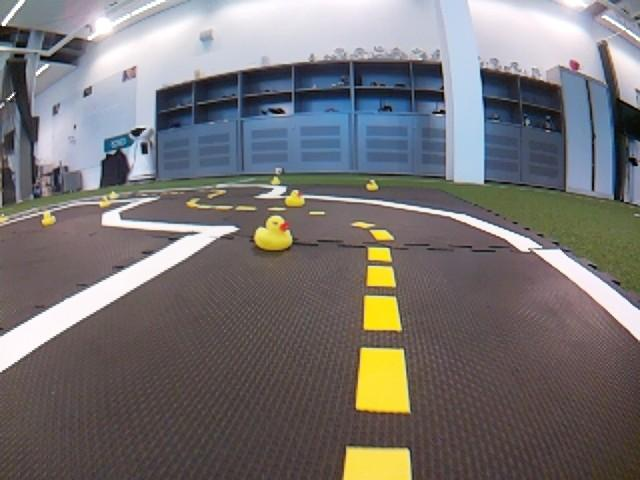Duckies: (254, 216, 292, 250), (284, 190, 305, 206), (40, 211, 56, 226), (366, 181, 378, 191), (99, 198, 110, 208), (109, 192, 120, 199), (272, 176, 280, 185), (0, 214, 7, 223)
